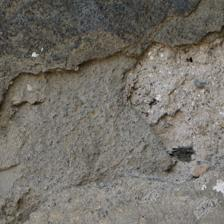Crack: (179, 5, 224, 117), (86, 49, 138, 132)
